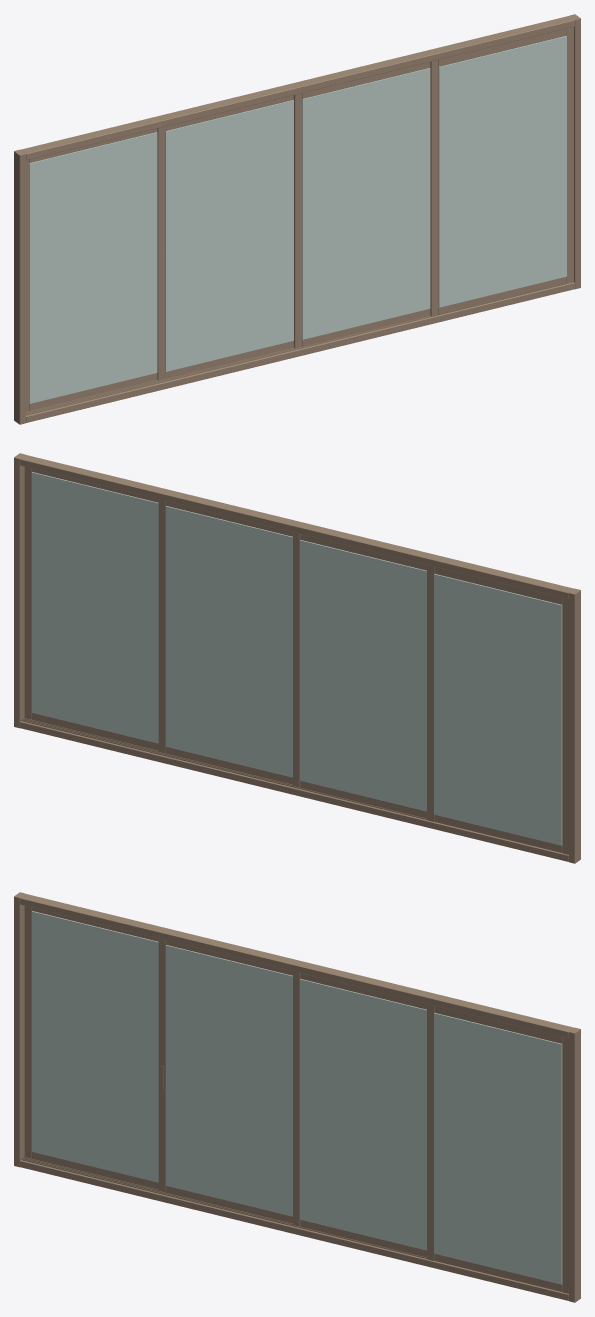
Rendered from co-S90RP-4-quartz-1019.glb.
The picture shows the model from 3 angles, top to bottom: view 1: azimuth 30°, elevation 25°; view 2: azimuth 150°, elevation 25°; view 3: azimuth 330°, elevation 25°; orthographic projection.
Visible parts, largest first — view 1: verre, structure; view 2: verre, structure; view 3: verre, structure.
Part boxes in pixels (<box>): verre: <box>29,36,566,403</box>; structure: <box>14,14,580,424</box>; verre: <box>31,472,562,845</box>; structure: <box>14,453,580,863</box>; verre: <box>31,911,562,1284</box>; structure: <box>14,892,580,1302</box>.
Size of the model in its own units: 4.8 by 2.2 by 0.09.
